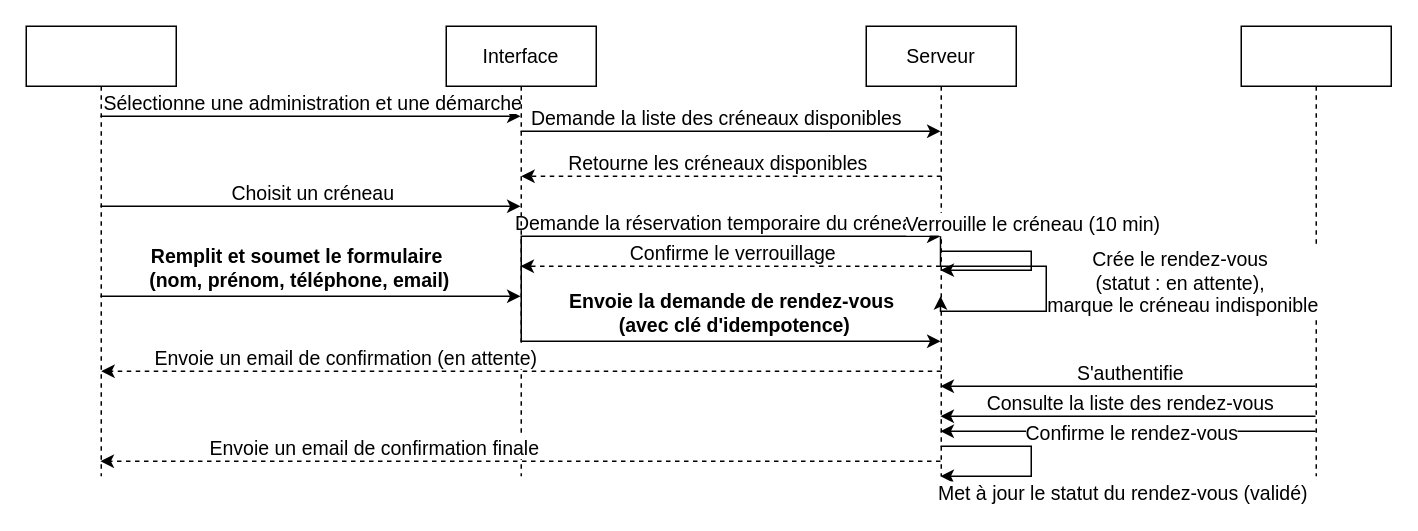
Image size: 1418x531. Some labels were removed from this diagram. Each missing label, with the box of its shape:
Agent: (1240, 25, 1391, 476)
Citoyen: (25, 25, 176, 476)
